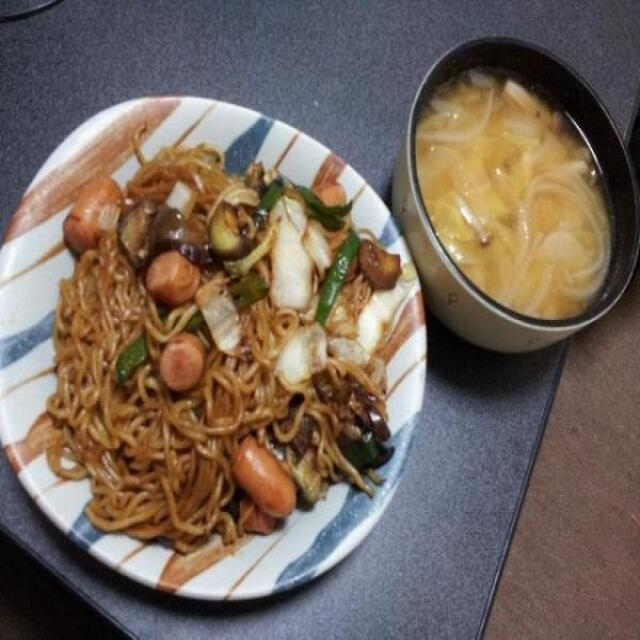汤锅炖物: (397, 35, 630, 350)
面条主食: (0, 74, 429, 602)
